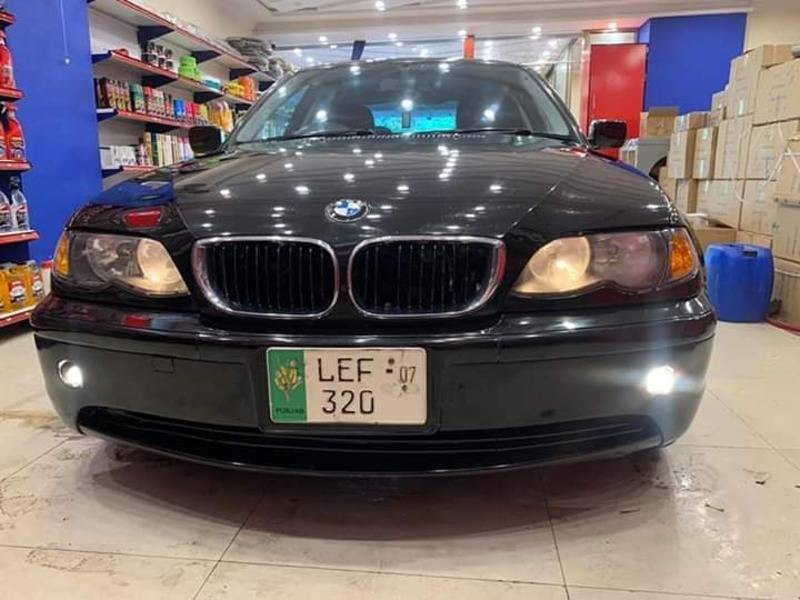License Plate: (262, 343, 429, 429)
